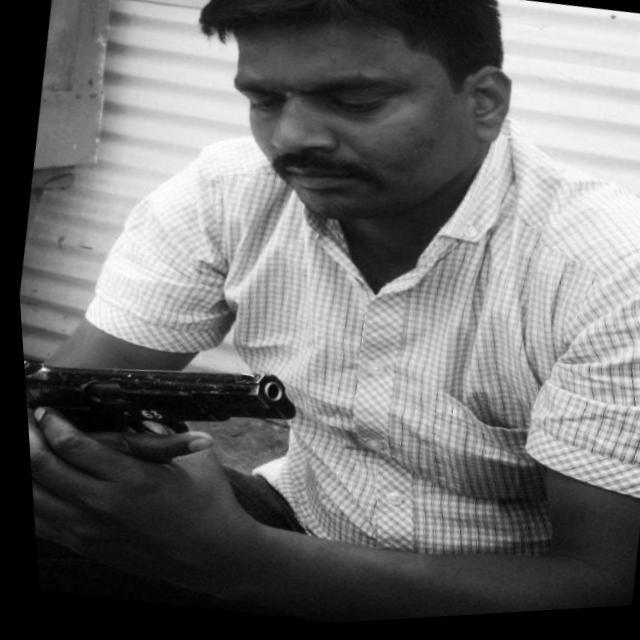weapon: (17, 322, 320, 580)
